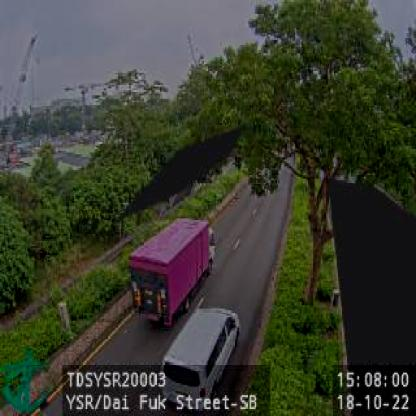Car: (160, 304, 240, 406)
Truck: (128, 217, 216, 327)
